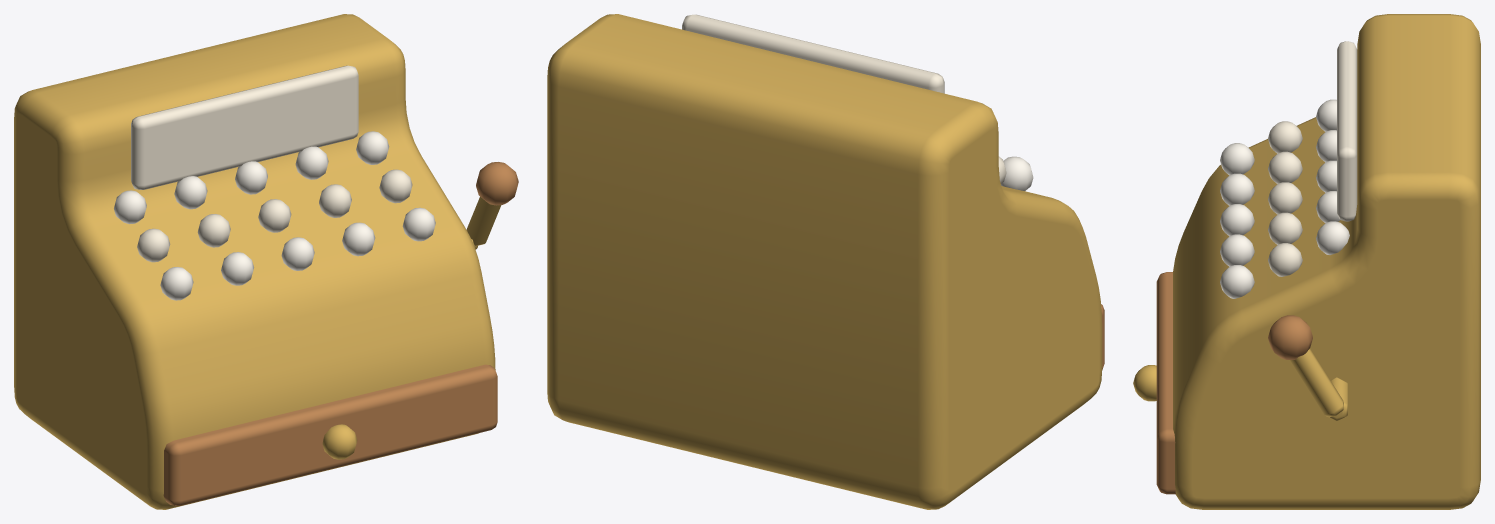
File: brass_cash_register.glb
3 renders of one model, left to right at view 1: azimuth 30°, elevation 25°; view 2: azimuth 150°, elevation 25°; view 3: azimuth 270°, elevation 25°, orthographic. The views are drawn at different scales.
Visible parts, largest first — view 1: brass_cash_register_mesh; view 2: brass_cash_register_mesh; view 3: brass_cash_register_mesh.
Part boxes in pixels (x1=…): brass_cash_register_mesh: x1=14, y1=14, x2=518, y2=509; brass_cash_register_mesh: x1=547, y1=14, x2=1104, y2=509; brass_cash_register_mesh: x1=1133, y1=14, x2=1480, y2=509.
Bounding box in the file's own units: 0.4809 × 0.36 × 0.338.
